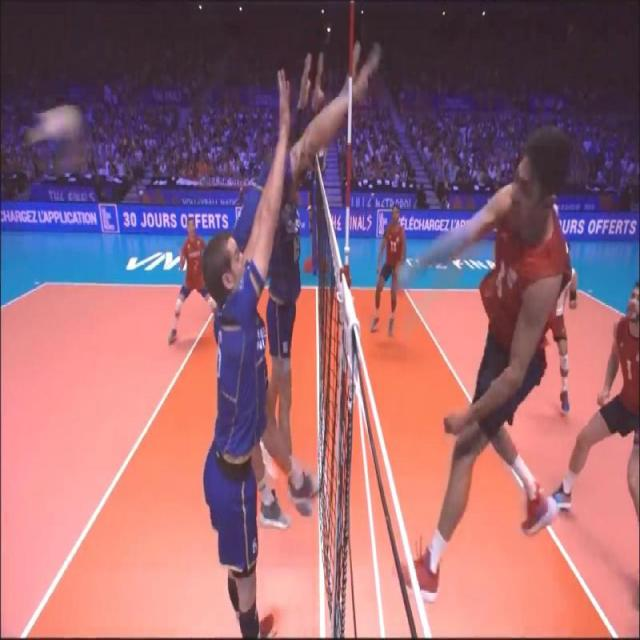volleyball: (44, 104, 85, 180)
